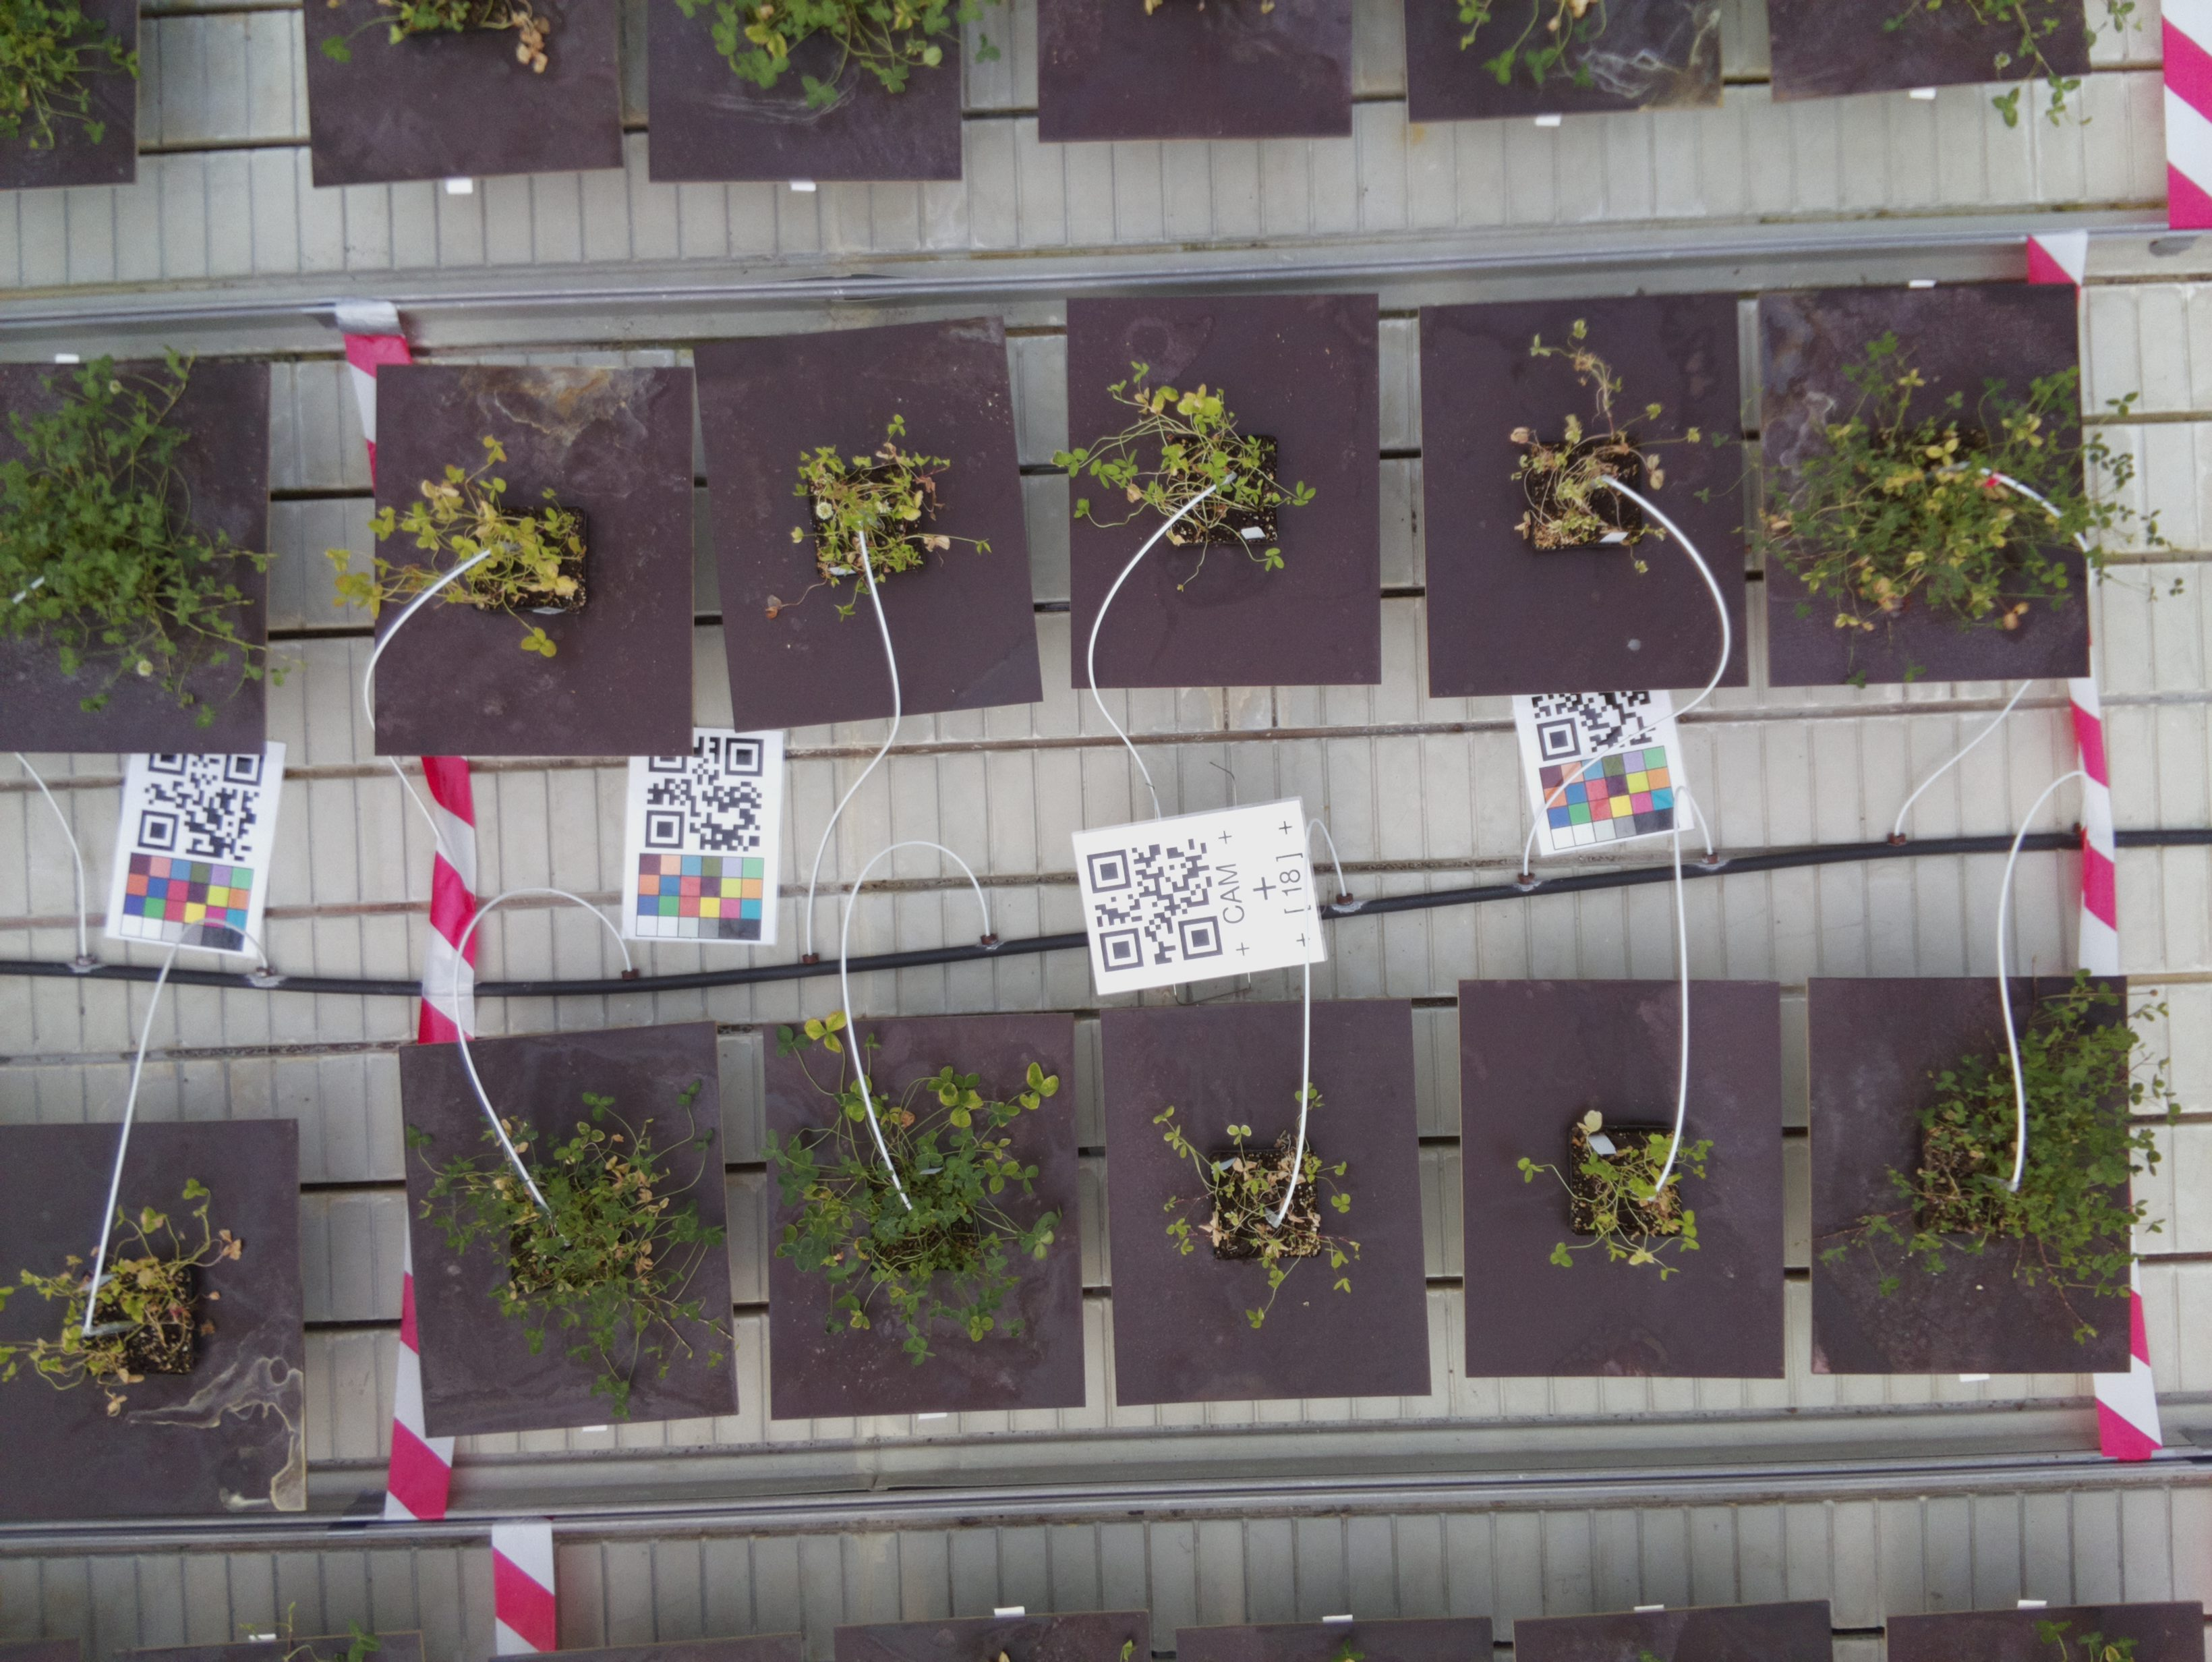POT: (1458, 976, 1788, 1386), (1753, 288, 2093, 681), (1091, 1006, 1428, 1400), (400, 1047, 744, 1423), (1816, 976, 2135, 1376), (1423, 306, 1749, 691), (697, 344, 1041, 709), (766, 1021, 1086, 1411), (379, 363, 693, 756), (1068, 300, 1379, 686)
QRCODE: (1068, 796, 1320, 999)
QRCOLOR: (622, 751, 780, 943), (1515, 693, 1693, 857)
